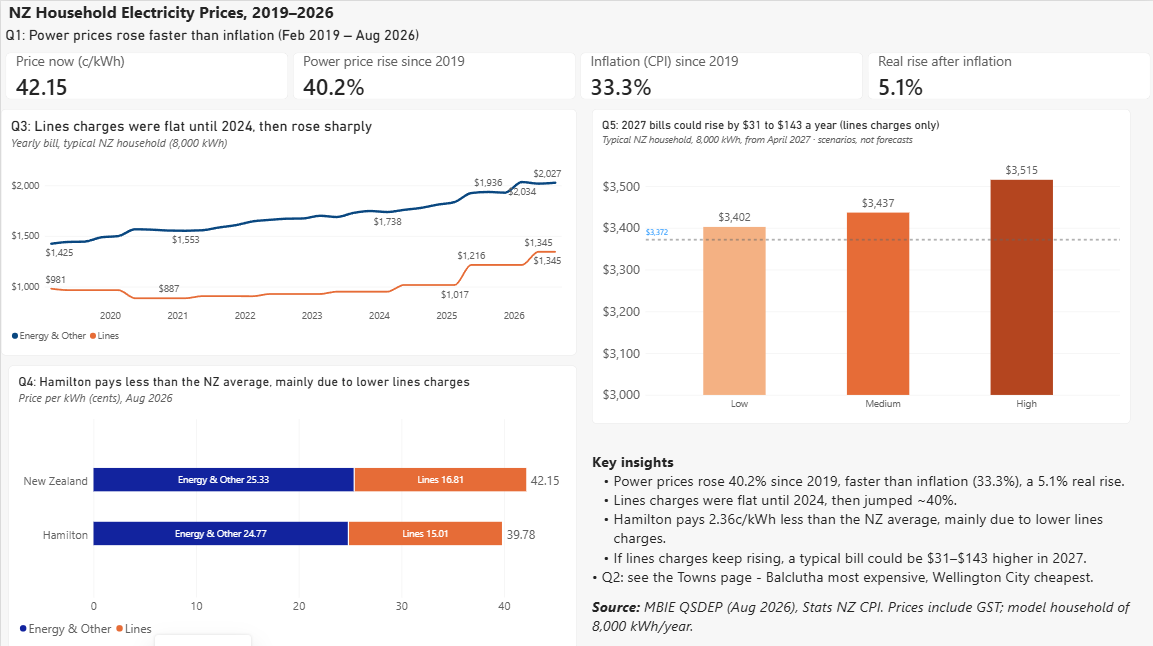

The dashboard page shown, as its layout file describes it:
{"tool":"powerbi","page":{"name":"Overview ","canvas":[1920,1080],"ordinal":0},"visuals":[{"type":"cardVisual","title":"Q1: Power prices rose faster than inflation (Feb 2019 – Aug 2026)","fields":{"Data":["qsdep_long.NZ Price 2026","qsdep_long.Electricity Rise %","qsdep_long.CPI Rise %","qsdep_long.Real Rise %"]},"box":[6.8,43.2,1908.7,121.7],"z":0},{"type":"lineChart","title":"Q3: Lines charges were flat until 2024, then rose sharply","fields":{"Category":["qsdep_long.Date"],"Series":["qsdep_long.Component"],"Y":["qsdep_long.Yearly Bill $"]},"box":[0,178.9,959.1,410.4],"z":1000},{"type":"barChart","title":"Q4: Hamilton pays less than the NZ average, mainly due to lower lines charges","fields":{"Category":["qsdep_long.Town"],"Series":["qsdep_long.Component"],"Y":["Sum(qsdep_long.Price_c_kWh)"]},"box":[11.9,608.4,947.2,472.4],"z":2000},{"type":"clusteredColumnChart","title":"Q5: 2027 bills could rise by $31 to $143 a year (lines charges only)","fields":{"Category":["tbl_Q5.Scenario"],"Y":["Sum(tbl_Q5.Bill 2027 ($/year))"]},"box":[985.4,178.9,897.1,524.9],"z":2001},{"type":"textbox","box":[985.4,749.2,897.1,314.9],"z":2002},{"type":"textbox","box":[11.4,0,731.4,43.2],"z":2003}]}

Visuals, with their boxes in screenshot pixels (x1, y1, x2, y2), scaled from the page's 1920x1080 canvas onto the 1153x646 screenshot:
"Q1: Power prices rose faster than inflation (Feb 2019 – Aug 2026)" cardVisual: l=4, t=26, r=1150, b=99
"Q3: Lines charges were flat until 2024, then rose sharply" lineChart: l=0, t=107, r=576, b=352
"Q4: Hamilton pays less than the NZ average, mainly due to lower lines charges" barChart: l=7, t=364, r=576, b=645
"Q5: 2027 bills could rise by $31 to $143 a year (lines charges only)" clusteredColumnChart: l=592, t=107, r=1130, b=421
textbox: l=592, t=448, r=1130, b=636
textbox: l=7, t=0, r=446, b=26
